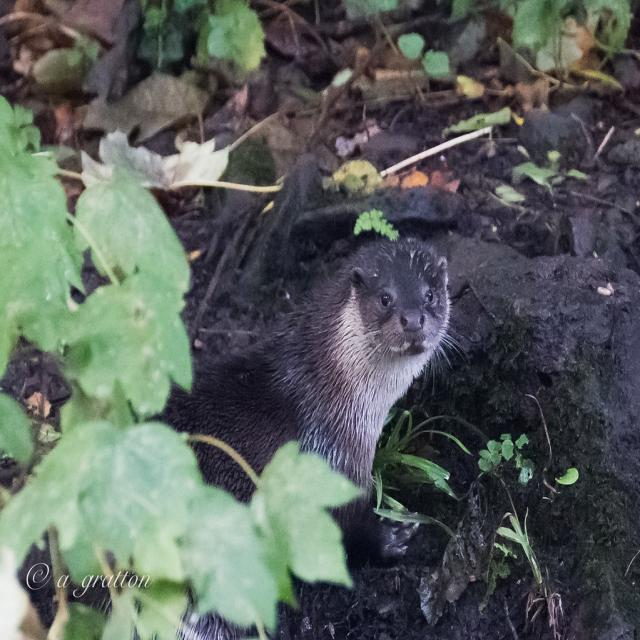otter: (243, 244, 449, 455)
